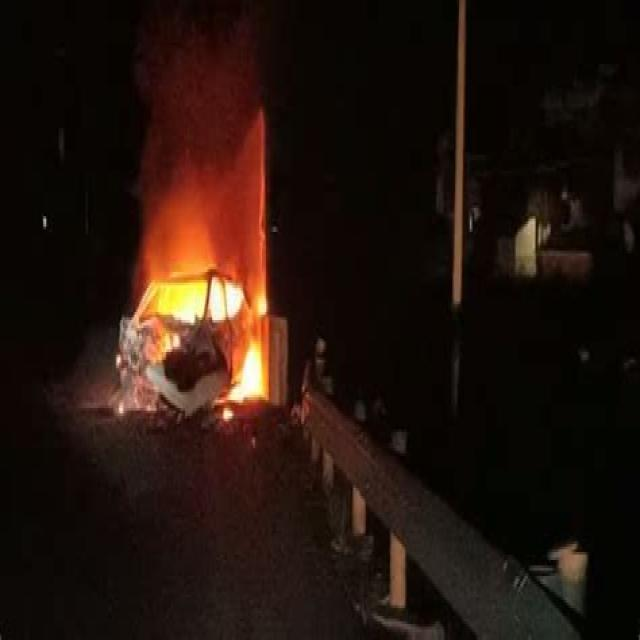fire: (145, 271, 268, 311), (220, 327, 275, 401)
